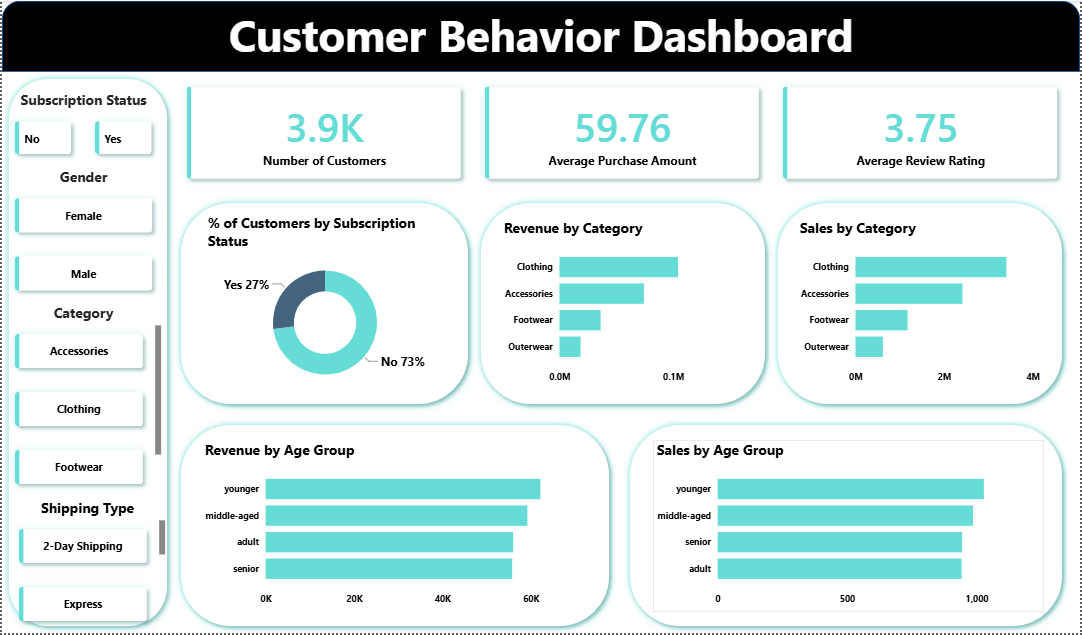

What the dashboard file says about the page in this screenshot:
{"tool":"powerbi","page":{"name":"Page 1","canvas":[1450,850],"ordinal":0},"visuals":[{"type":"cardVisual","fields":{"Data":["CountNonNull(customer_behaviour customer_shopping.customer_id)","Avg(customer_behaviour customer_shopping.purchase_amount)","Avg(customer_behaviour customer_shopping.review_rating)"]},"box":[219.2,86.1,1230.6,182.9],"z":0},{"type":"shape","box":[0,0,1449.8,95.5],"z":1000},{"type":"textbox","box":[0,0,1449.8,95.5],"z":2000},{"type":"shape","title":"Percentage of Customers by Subscription Status","box":[231.3,262.3,404.8,289.2],"z":3000},{"type":"donutChart","title":"% of Customers by Subscription Status","fields":{"Category":["customer_behaviour customer_shopping.subscription_status"],"Y":["CountNonNull(customer_behaviour customer_shopping.customer_id)"]},"box":[271.7,285.1,325.5,244.8],"z":4000},{"type":"shape","title":"Percentage of Customers by Subscription Status","box":[634.8,262.3,400.8,289.2],"z":5000},{"type":"clusteredBarChart","title":"Revenue by Category","fields":{"Category":["customer_behaviour customer_shopping.category"],"Y":["Sum(customer_behaviour customer_shopping.purchase_amount)"]},"box":[669.8,291.9,329.5,231.3],"z":6000},{"type":"shape","title":"Percentage of Customers by Subscription Status","box":[1034.3,262.3,400.8,289.2],"z":7000},{"type":"barChart","title":"Sales by Category","fields":{"Category":["customer_behaviour customer_shopping.category"],"Y":["Sum(customer_behaviour customer_shopping.customer_id)"]},"box":[1067.9,291.9,333.5,231.3],"z":8000},{"type":"shape","box":[0,95.5,231.3,754.5],"z":9000},{"type":"advancedSlicerVisual","fields":{"Values":["customer_behaviour customer_shopping.subscription_status"]},"box":[0,119.7,219.2,103.6],"z":10000},{"type":"advancedSlicerVisual","fields":{"Values":["customer_behaviour customer_shopping.gender"]},"box":[0,223.3,219.2,184.3],"z":11000},{"type":"advancedSlicerVisual","fields":{"Values":["customer_behaviour customer_shopping.category"]},"box":[0,406.2,219.2,262.3],"z":12000},{"type":"shape","title":"Percentage of Customers by Subscription Status","box":[231.3,560.8,594.5,289.2],"z":13000},{"type":"clusteredBarChart","title":"Revenue by Age Group","fields":{"Y":["Sum(customer_behaviour customer_shopping.purchase_amount)"],"Category":["customer_behaviour customer_shopping.age_group"]},"box":[267.6,590.4,519.1,231.3],"z":14000},{"type":"shape","title":"Percentage of Customers by Subscription Status","box":[835.2,560.8,599.8,289.2],"z":15000},{"type":"clusteredBarChart","title":"Sales by Age Group","fields":{"Category":["customer_behaviour customer_shopping.age_group"],"Y":["CountNonNull(customer_behaviour customer_shopping.customer_id)"]},"box":[875.6,590.4,525.9,231.3],"z":16000},{"type":"advancedSlicerVisual","title":"Shipping Type","fields":{"Values":["customer_behaviour customer_shopping.shipping_type"]},"box":[5.4,668.4,219.2,181.6],"z":17000}]}

Visuals, with their boxes in screenshot pixels (x1, y1, x2, y2), scaled from the page's 1450x850 canvas onto the 1082x635 screenshot:
cardVisual - CountNonNull(customer_behaviour customer_shopping.customer_id) x Avg(customer_behaviour customer_shopping.purchase_amount): [164,64,1081,201]
shape: [0,0,1081,71]
textbox: [0,0,1081,71]
"Percentage of Customers by Subscription Status" shape: [173,196,475,412]
"% of Customers by Subscription Status" donutChart: [203,213,446,396]
"Percentage of Customers by Subscription Status" shape: [474,196,773,412]
"Revenue by Category" clusteredBarChart: [500,218,746,391]
"Percentage of Customers by Subscription Status" shape: [772,196,1071,412]
"Sales by Category" barChart: [797,218,1046,391]
shape: [0,71,173,634]
advancedSlicerVisual - customer_behaviour customer_shopping.subscription_status: [0,89,164,167]
advancedSlicerVisual - customer_behaviour customer_shopping.gender: [0,167,164,305]
advancedSlicerVisual - customer_behaviour customer_shopping.category: [0,303,164,499]
"Percentage of Customers by Subscription Status" shape: [173,419,616,634]
"Revenue by Age Group" clusteredBarChart: [200,441,587,614]
"Percentage of Customers by Subscription Status" shape: [623,419,1071,634]
"Sales by Age Group" clusteredBarChart: [653,441,1046,614]
"Shipping Type" advancedSlicerVisual: [4,499,168,634]
